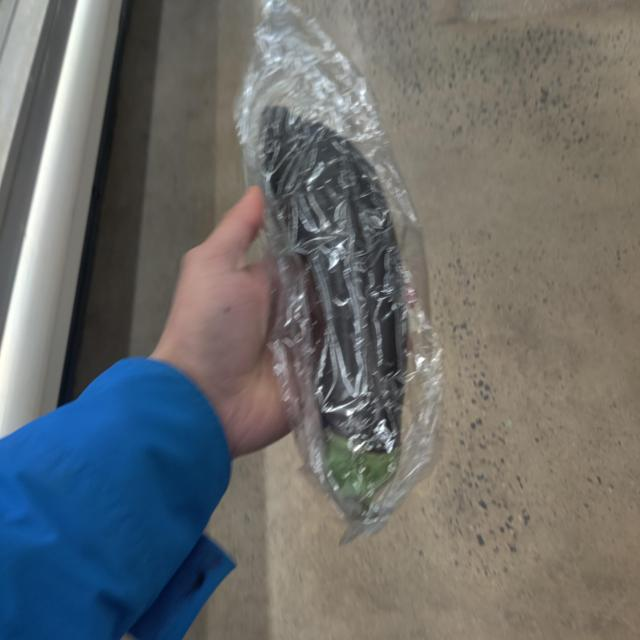Eggplant: (246, 94, 436, 537)
